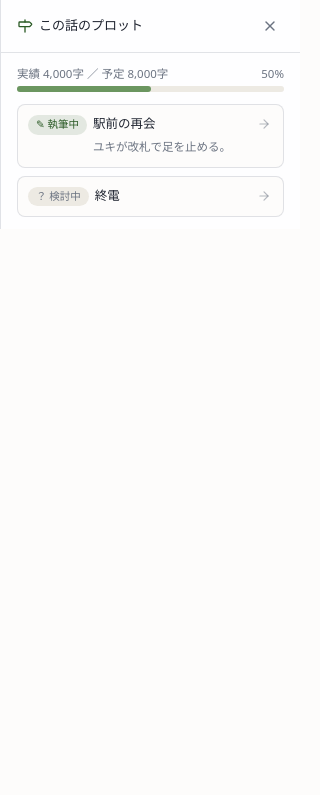
Test case: PlotPeek（この話のプロット） › 状態チップは一覧でも詳細でも押すたびに循環し、保存される
Click the button with aria-label "「駅前の再会」の詳細" at (171, 136), box 93,115 -> 249,157
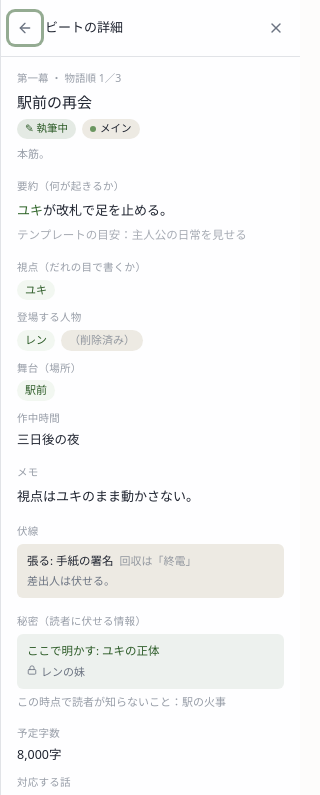
Click the button "✎ 執筆中" at (46, 129), box 17,119 -> 76,139
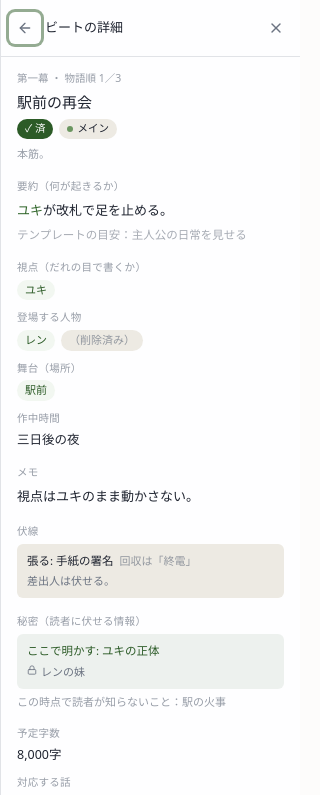
Result: the button "✓ 済" is shown at 17,119 -> 53,139
